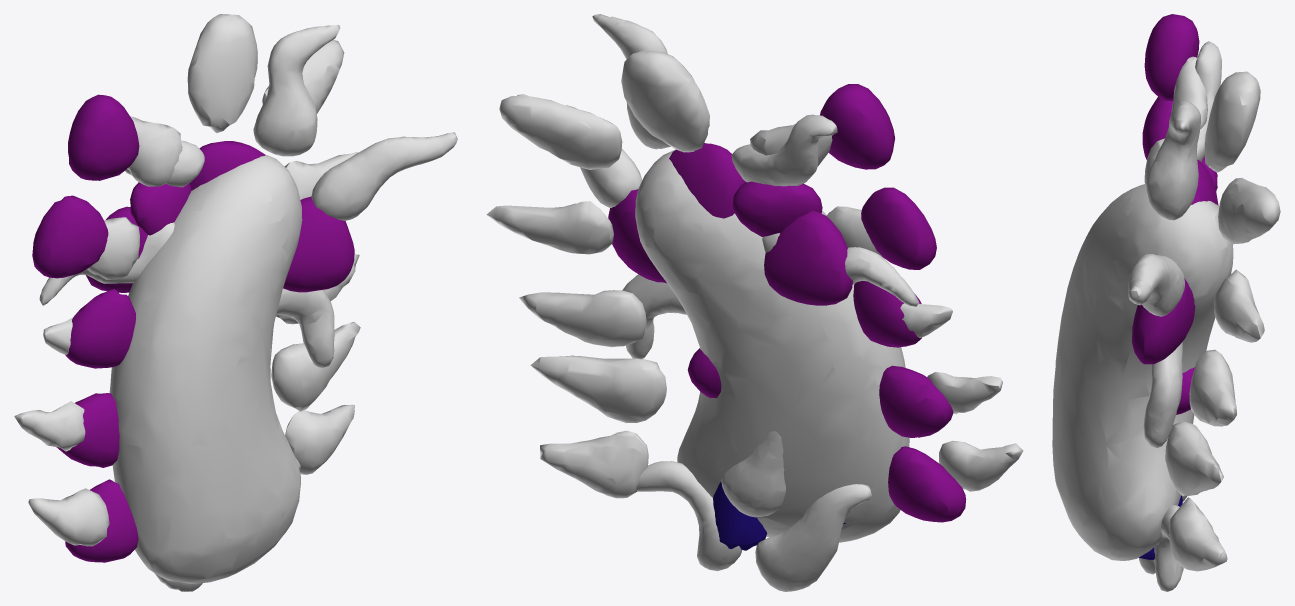
File: flowers.fbx
3 views of the same model, side by side, from view 1: azimuth 30°, elevation 25°; view 2: azimuth 150°, elevation 25°; view 3: azimuth 270°, elevation 25° (orthographic). The views are drawn at different scales.
Parts seen in each view (by area): view 1: cactus, grass, Layer_2, flower; view 2: cactus, Layer_2, grass, flower; view 3: cactus, Layer_2, grass, flower.
Boxes of the visible parts, bbox=[...] form: cactus: bbox=[14, 14, 360, 583]; grass: bbox=[32, 94, 191, 562]; Layer_2: bbox=[39, 25, 457, 591]; flower: bbox=[86, 141, 354, 292]; cactus: bbox=[486, 51, 1023, 542]; Layer_2: bbox=[517, 14, 919, 591]; grass: bbox=[687, 84, 966, 524]; flower: bbox=[608, 143, 852, 550]; cactus: bbox=[1052, 56, 1280, 571]; Layer_2: bbox=[1128, 41, 1221, 591]; grass: bbox=[1142, 14, 1217, 414]; flower: bbox=[1132, 159, 1218, 559].
Size of the model in its own units: 68.5 by 75.62 by 29.15.
